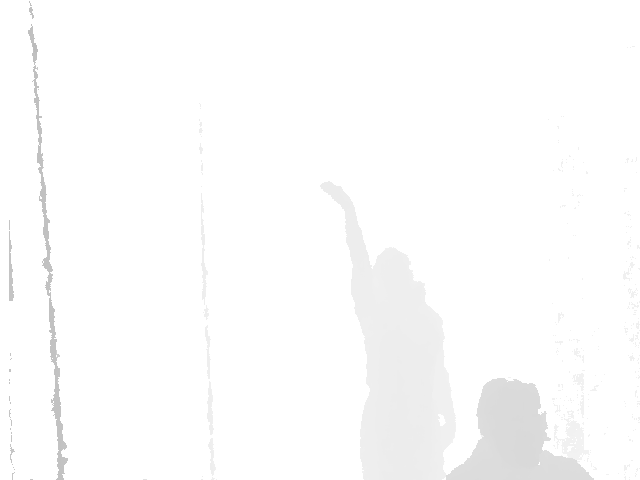hand: (321, 176, 355, 215)
head: (476, 379, 550, 466), (373, 246, 418, 306)
person: (320, 174, 459, 479), (445, 379, 594, 480)
